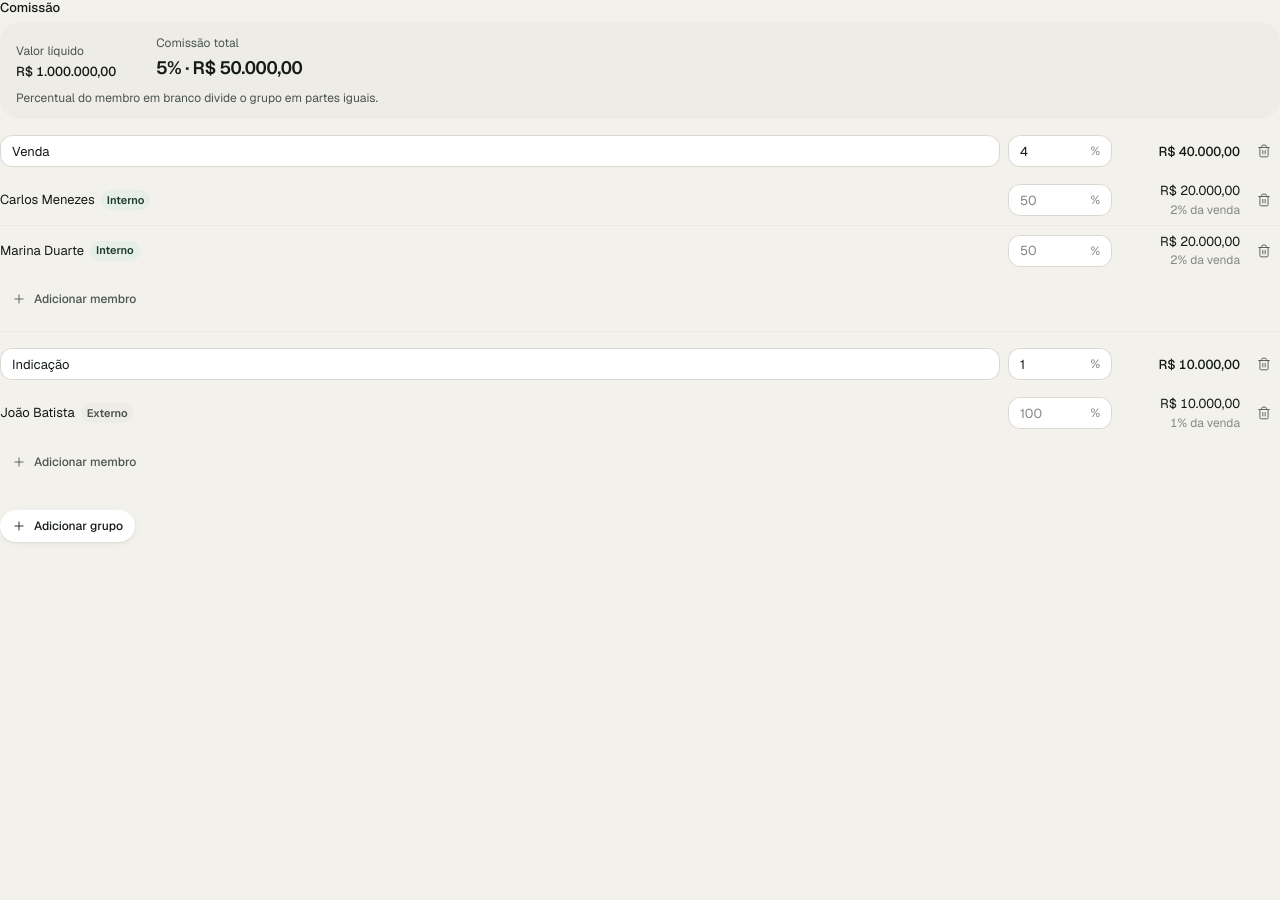
Scenario: CommissionEditor — edição › adiciona o contato escolhido ao grupo, sem oferecer quem já está nele, e fecha o seletor
Click the button with aria-label "Adicionar membro a Indicação": (74, 462) [0,446,148,478]
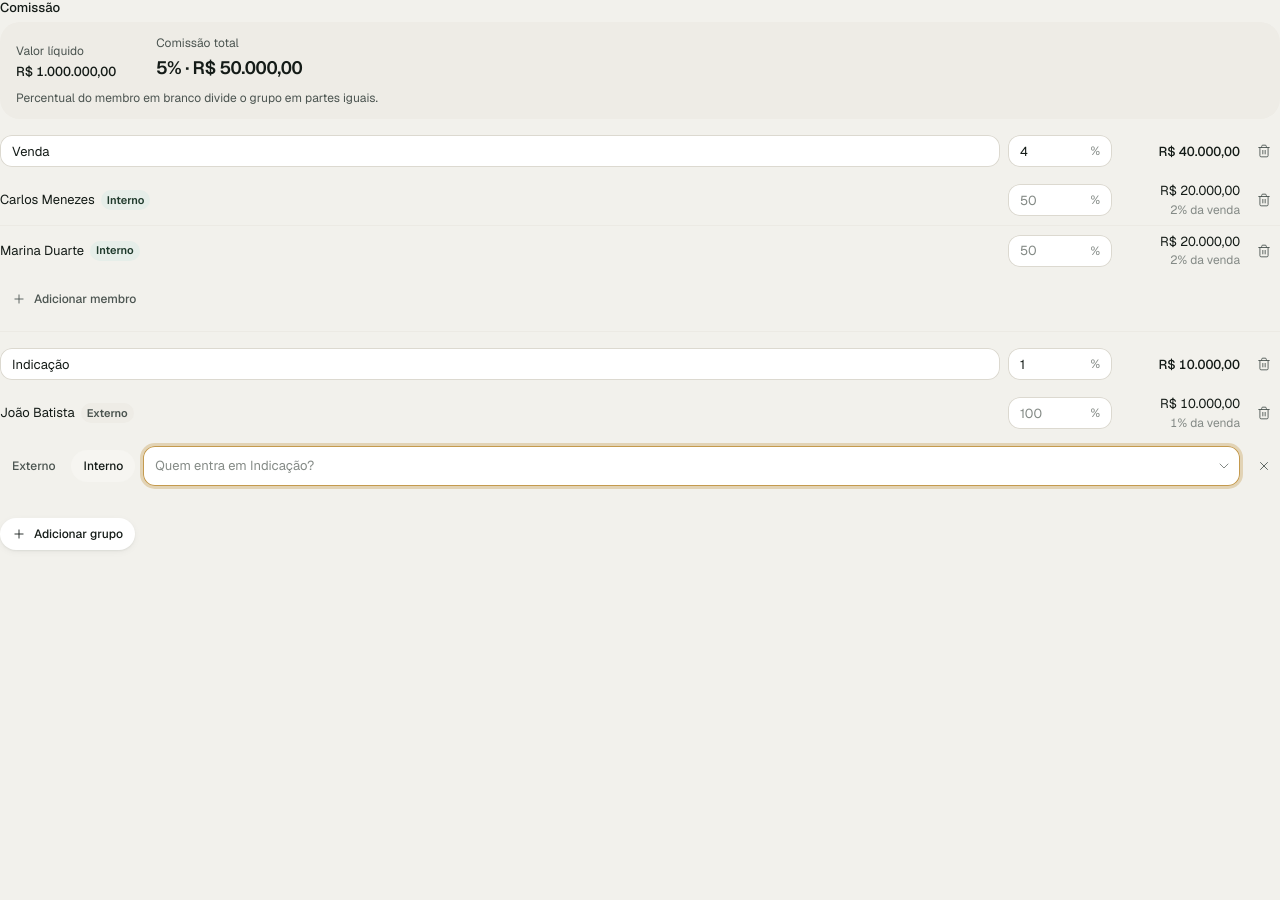
Click the button "Externo": (34, 466) [0,450,68,482]
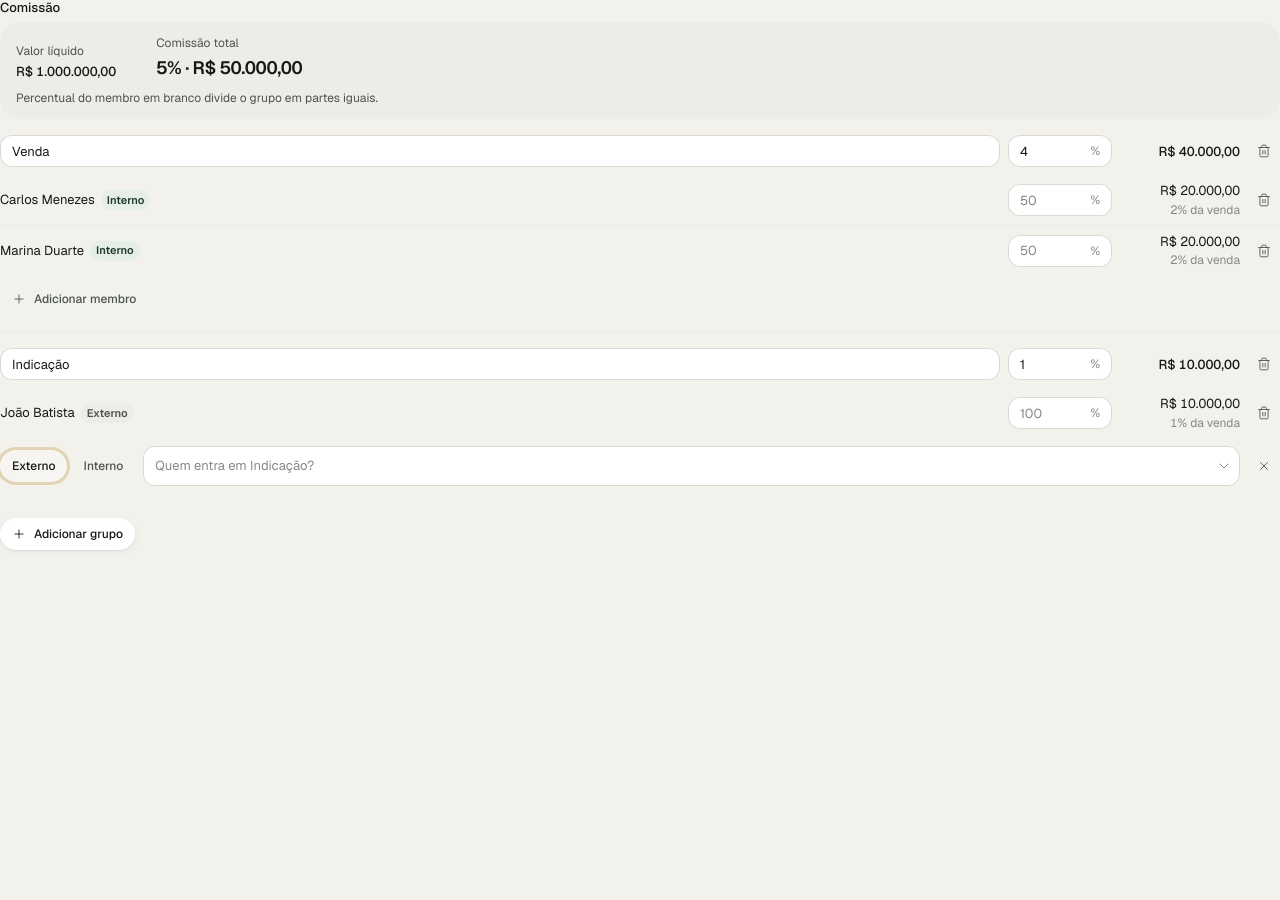
Click the dropdown labelled "Quem entra em Indicação?": (235, 466) [155,446,1210,486]
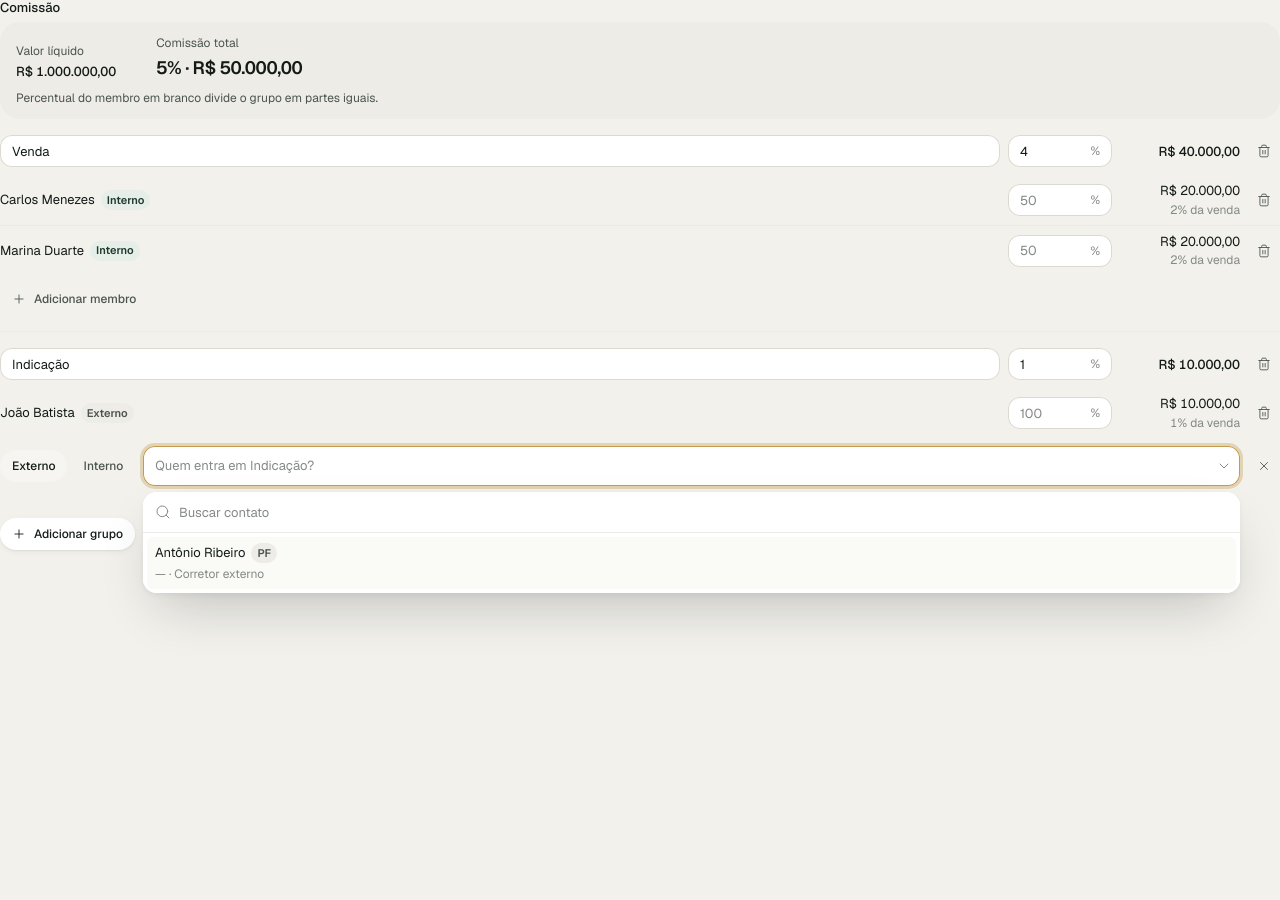
Click the option "Antônio Ribeiro PF — · Corretor externo": (200, 553) [147,537,1236,589]
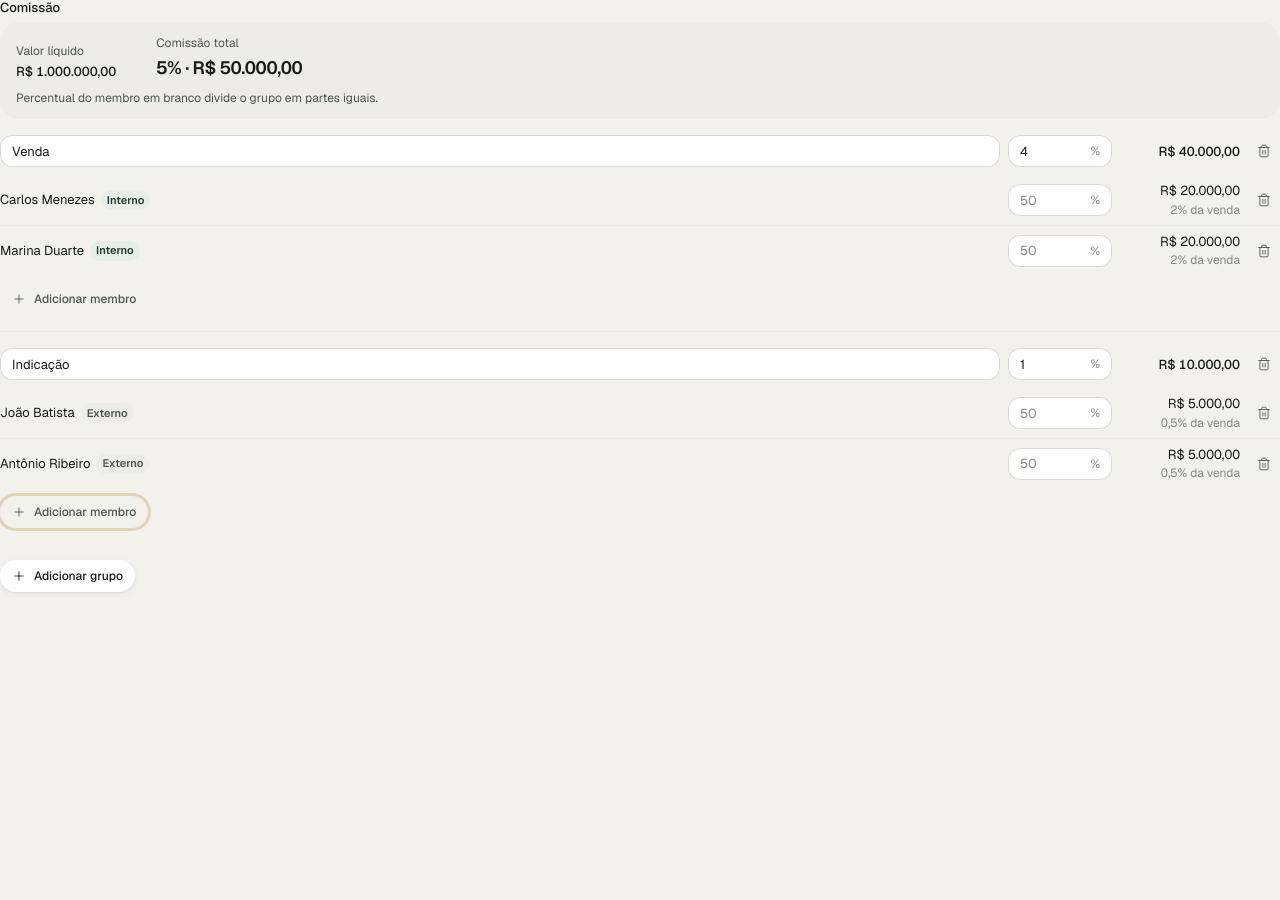
Check: the dropdown is gone
